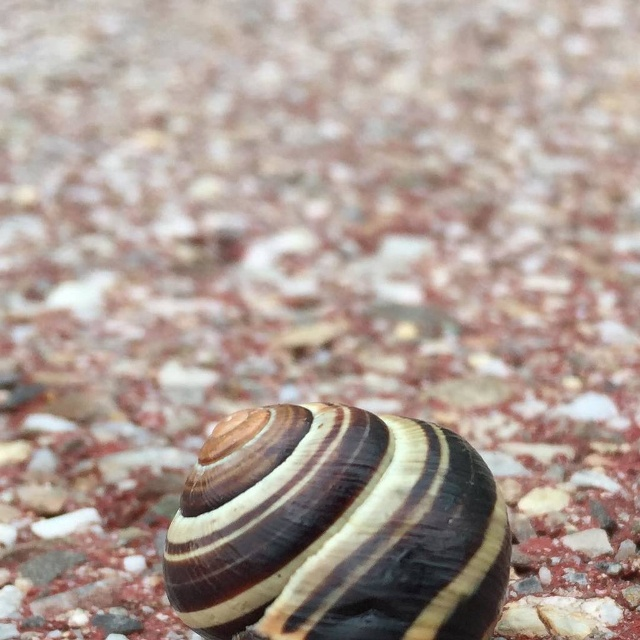Snail: (158, 396, 513, 639)
